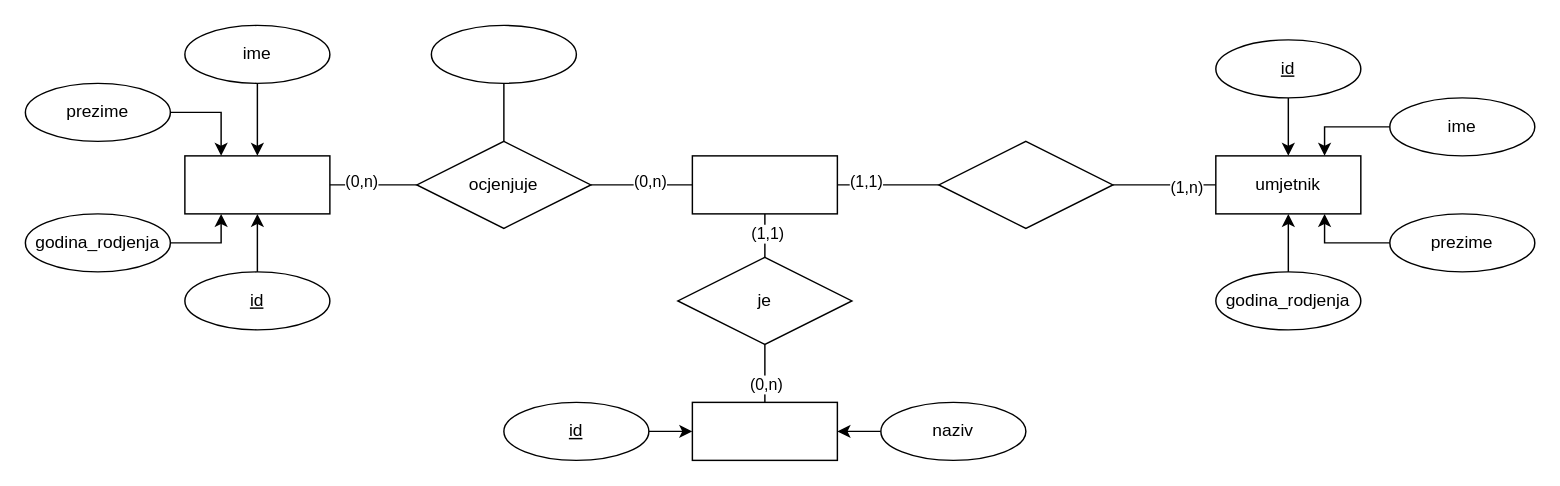
Image size: 1560x486. Some labels were removed from this diagram. Here are the shapes that lost their labels. From the top down, the centre of each, then its label:
point (503, 53): ocjena
point (256, 184): kriticar
point (764, 184): umjetnicko_djelo
point (1025, 184): kreirao
point (764, 430): vrsta
